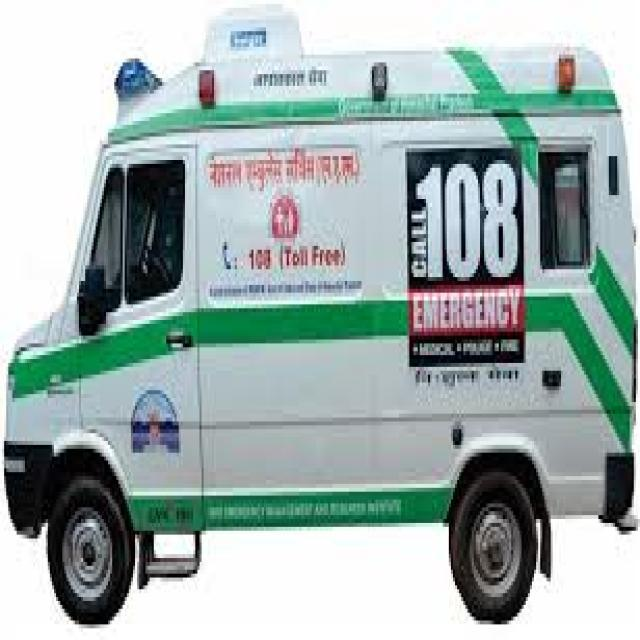ambulance: (18, 9, 640, 626)
